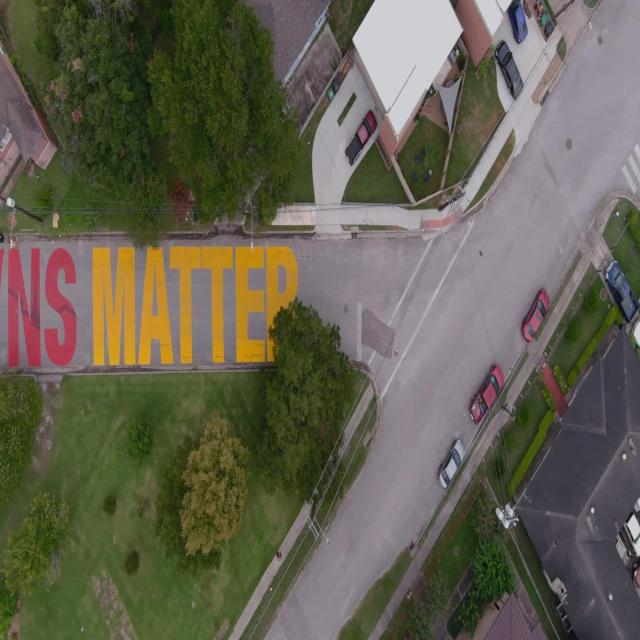Car: (591, 240, 638, 324), (465, 357, 510, 433), (491, 42, 530, 111), (518, 278, 558, 343), (345, 96, 381, 167), (436, 438, 470, 497), (512, 0, 536, 45)
